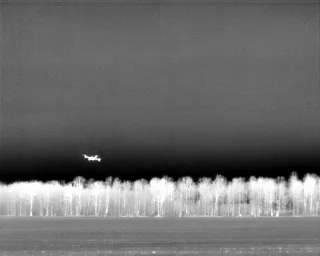DRONE: (80, 149, 106, 166)
